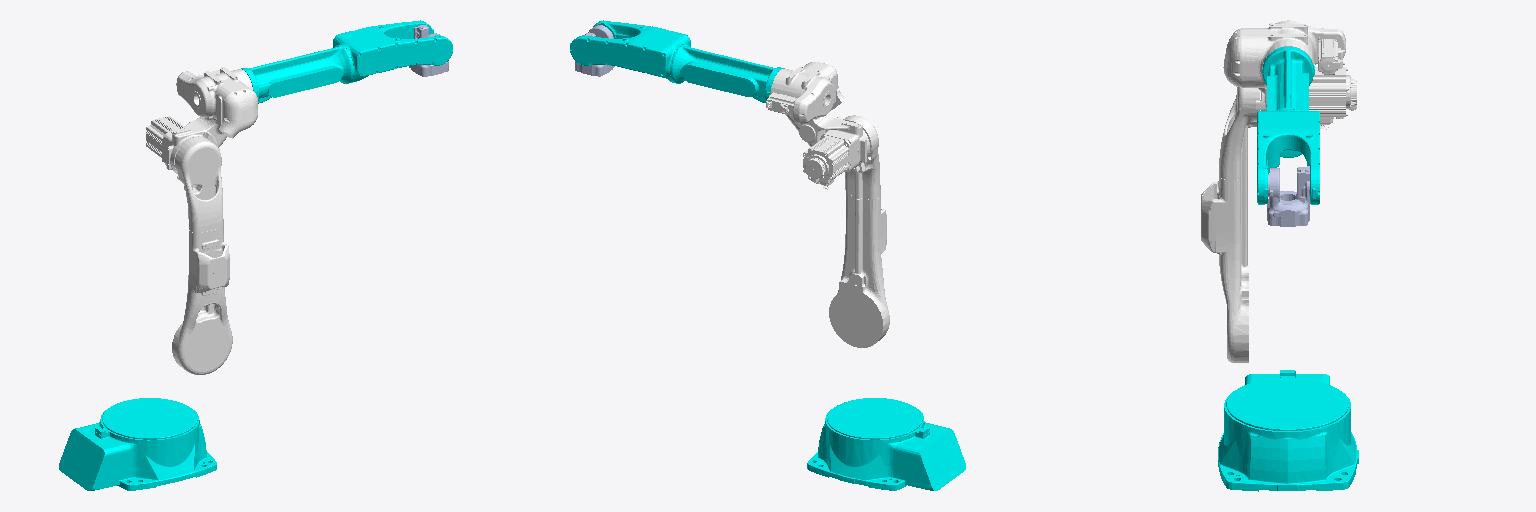
robot.urdf — mr12urdf20240605:
<?xml version="1.0" encoding="utf-8"?>
<!-- This URDF was automatically created by SolidWorks to URDF Exporter! Originally created by Stephen Brawner (brawner@gmail.com) 
     Commit Version: 1.6.0-4-g7f85cfe  Build Version: 1.6.7995.38578
     For more information, please see http://wiki.ros.org/sw_urdf_exporter -->
<robot
  name="mr12urdf20240605">
  <link
    name="base_link">
    <!-- <inertial>
      <origin
        xyz="-0.038979 3.1821E-05 0.11446"
        rpy="0 0 0" />
      <mass
        value="27.847" />
      <inertia
        ixx="0.33372"
        ixy="-0.00016275"
        ixz="-0.015052"
        iyy="0.57226"
        iyz="6.6414E-05"
        izz="0.74717" />
    </inertial> -->
    <visual>
      <origin
        xyz="0 0 0"
        rpy="0 0 0" />
      <geometry>
        <mesh
          filename="package://mr12urdf20240605/meshes/base_link.STL" />
      </geometry>
      <material
        name="">
        <color
          rgba="0 1 1 1" />
      </material>
    </visual>
    <collision>
      <origin
        xyz="0 0 0"
        rpy="0 0 0" />
      <geometry>
        <mesh
          filename="package://mr12urdf20240605/meshes/base_link.STL" />
      </geometry>
    </collision>
  </link>
  <link
    name="Link1">
    <inertial>
      <origin
        xyz="0.0015836 0.02481 -0.16429"
        rpy="0 0 0" />
      <mass
        value="28.856" />
      <inertia
        ixx="0.80293"
        ixy="0.2052"
        ixz="-0.085925"
        iyy="0.84748"
        iyz="-0.048338"
        izz="0.87668" />
    </inertial>
    <visual>
      <origin
        xyz="0 0 0"
        rpy="0 0 0" />
      <geometry>
        <mesh
          filename="package://mr12urdf20240605/meshes/Link1.STL" />
      </geometry>
      <material
        name="">
        <color
          rgba="1 1 1 1" />
      </material>
    </visual>
    <collision>
      <origin
        xyz="0 0 0"
        rpy="0 0 0" />
      <geometry>
        <mesh
          filename="package://mr12urdf20240605/meshes/Link1.STL" />
      </geometry>
    </collision>
  </link>
  <joint
    name="joint1"
    type="revolute">
    <origin
      xyz="0 0 0.55"
      rpy="0 0 0" />
    <parent
      link="base_link" />
    <child
      link="Link1" />
    <axis
      xyz="0 0 1" />
    <limit
      lower="-2.878"
      upper="2.878"
      effort="150"
      velocity="3.541" />
  </joint>
  <link
    name="Link2">
    <inertial>
      <origin
        xyz="0.31865 -0.00023557 0.18614"
        rpy="0 0 0" />
      <mass
        value="7.8068" />
      <inertia
        ixx="0.028124"
        ixy="0.00028152"
        ixz="-0.0093992"
        iyy="0.18587"
        iyz="1.1681E-05"
        izz="0.20014" />
    </inertial>
    <visual>
      <origin
        xyz="0 0 0"
        rpy="0 0 0" />
      <geometry>
        <mesh
          filename="package://mr12urdf20240605/meshes/Link2.STL" />
      </geometry>
      <material
        name="">
        <color
          rgba="1 1 1 1" />
      </material>
    </visual>
    <collision>
      <origin
        xyz="0 0 0"
        rpy="0 0 0" />
      <geometry>
        <mesh
          filename="package://mr12urdf20240605/meshes/Link2.STL" />
      </geometry>
    </collision>
  </link>
  <joint
    name="joint2"
    type="revolute">
    <origin
      xyz="0.14974 0.035343 0"
      rpy="1.5708 -1.5708 0" />
    <parent
      link="Link1" />
    <child
      link="Link2" />
    <axis
      xyz="0 0 1" />
    <limit
      lower="-2.529"
      upper="1.396"
      effort="150"
      velocity="3.541" />
  </joint>
  <link
    name="Link3">
    <inertial>
      <origin
        xyz="0.10855 -0.097073 0.0015558"
        rpy="0 0 0" />
      <mass
        value="13.102" />
      <inertia
        ixx="0.089477"
        ixy="0.0037317"
        ixz="0.0030591"
        iyy="0.075553"
        iyz="0.0049783"
        izz="0.062713" />
    </inertial>
    <visual>
      <origin
        xyz="0 0 0"
        rpy="0 0 0" />
      <geometry>
        <mesh
          filename="package://mr12urdf20240605/meshes/Link3.STL" />
      </geometry>
      <material
        name="">
        <color
          rgba="1 1 1 1" />
      </material>
    </visual>
    <collision>
      <origin
        xyz="0 0 0"
        rpy="0 0 0" />
      <geometry>
        <mesh
          filename="package://mr12urdf20240605/meshes/Link3.STL" />
      </geometry>
    </collision>
  </link>
  <joint
    name="joint3"
    type="revolute">
    <origin
      xyz="0.76075 0 0.033754"
      rpy="0 0 0" />
    <parent
      link="Link2" />
    <child
      link="Link3" />
    <axis
      xyz="0 0 1" />
    <limit
      lower="-1.308"
      upper="2.529"
      effort="150"
      velocity="3.733" />
  </joint>
  <link
    name="Link4">
    <inertial>
      <origin
        xyz="0.014489 -0.00063613 -0.37646"
        rpy="0 0 0" />
      <mass
        value="8.68" />
      <inertia
        ixx="0.46623"
        ixy="0.00050091"
        ixz="-0.015294"
        iyy="0.45108"
        iyz="0.00064946"
        izz="0.036563" />
    </inertial>
    <visual>
      <origin
        xyz="0 0 0"
        rpy="0 0 0" />
      <geometry>
        <mesh
          filename="package://mr12urdf20240605/meshes/Link4.STL" />
      </geometry>
      <material
        name="">
        <color
          rgba="0 1 1 1" />
      </material>
    </visual>
    <collision>
      <origin
        xyz="0 0 0"
        rpy="0 0 0" />
      <geometry>
        <mesh
          filename="package://mr12urdf20240605/meshes/Link4.STL" />
      </geometry>
    </collision>
  </link>
  <joint
    name="joint4"
    type="revolute">
    <origin
      xyz="0.19783 -1.0829 0"
      rpy="1.5708 0 0" />
    <parent
      link="Link3" />
    <child
      link="Link4" />
    <axis
      xyz="0 0 1" />
    <limit
      lower="-1.6"
      upper="1.6"
      effort="88.5"
      velocity="6.838" />
  </joint>
  <link
    name="Link5">
    <inertial>
      <origin
        xyz="-6.1697E-06 -0.048434 -0.0024999"
        rpy="0 0 0" />
      <mass
        value="1.2351" />
      <inertia
        ixx="0.0041541"
        ixy="-7.1529E-06"
        ixz="-1.1135E-05"
        iyy="0.0031617"
        iyz="0.00015352"
        izz="0.0035434" />
    </inertial>
    <visual>
      <origin
        xyz="0 0 0"
        rpy="0 0 0" />
      <geometry>
        <mesh
          filename="package://mr12urdf20240605/meshes/Link5.STL" />
      </geometry>
      <material
        name="">
        <color
          rgba="0.79216 0.81961 0.93333 1" />
      </material>
    </visual>
    <collision>
      <origin
        xyz="0 0 0"
        rpy="0 0 0" />
      <geometry>
        <mesh
          filename="package://mr12urdf20240605/meshes/Link5.STL" />
      </geometry>
    </collision>
  </link>
  <joint
    name="joint5"
    type="revolute">
    <origin
      xyz="0 0 0"
      rpy="1.5708 1.5708 0" />
    <parent
      link="Link4" />
    <child
      link="Link5" />
    <axis
      xyz="0 0 1" />
    <limit
      lower="-1.6"
      upper="0.75"
      effort="45.52"
      velocity="4.815" />
  </joint>
  <link
    name="Link6">
    <inertial>
      <origin
        xyz="-0.048649 0.00090428 0.16353"
        rpy="0 0 0" />
      <mass
        value="1.8877" />
      <inertia
        ixx="0.0086566"
        ixy="0.00012203"
        ixz="0.00084157"
        iyy="0.0053122"
        iyz="-0.00012437"
        izz="0.0064842" />
    </inertial>
    <visual>
      <origin
        xyz="0 0 0"
        rpy="0 0 0" />
      <geometry>
        <mesh
          filename="package://mr12urdf20240605/meshes/Link6.STL" />
      </geometry>
      <material
        name="">
        <color
          rgba="0.75294 0.75294 0.75294 1" />
      </material>
    </visual>
    <collision>
      <origin
        xyz="0 0 0"
        rpy="0 0 0" />
      <geometry>
        <mesh
          filename="package://mr12urdf20240605/meshes/Link6.STL" />
      </geometry>
    </collision>
  </link>
  <joint
    name="joint6"
    type="revolute">
    <origin
      xyz="0 -0.112 0"
      rpy="-1.5708 0 -3.1416" />
    <parent
      link="Link5" />
    <child
      link="Link6" />
    <axis
      xyz="0 0 1" />
    <limit
      lower="-3.838"
      upper="3.838"
      effort="32.64"
      velocity="23.655" />
  </joint>

  <link name="link_tool" />
  <joint name="joint_tool" type="fixed">
    <parent link="Link6" />
    <child link="link_tool" />
    <origin xyz="-0.062274 0.004467 0.736804" rpy="0.004903 0.399016 3.141556" />
  </joint>

  <link name="link_end" />
  <joint name="joint_end" type="fixed">
    <parent link="link_tool" />
    <child link="link_end" />
    <origin xyz="0.0 0.0 0.0" rpy="0.0 0.0 0.02" />
  </joint>

</robot>

--- Render facts (derived) ---
Views: 3 orthographic renders of the robot side by side, from view 1: azimuth 30°, elevation 25°; view 2: azimuth 150°, elevation 25°; view 3: azimuth 270°, elevation 25°.
Model mr12urdf20240605 with 9 links and 8 joints (6 revolute, 2 fixed), rooted at base_link, posed every joint at zero.
Links seen in each view (by area): view 1: base_link, Link2, Link4, Link3, Link5; view 2: base_link, Link2, Link4, Link3, Link5; view 3: base_link, Link2, Link3, Link4, Link5.
Boxes of the visible links, x1,y1,x2,y2 form: base_link: (59,398,216,490); Link2: (172,137,232,374); Link4: (241,20,452,103); Link3: (146,67,257,173); Link5: (409,25,448,76); base_link: (807,398,965,490); Link2: (829,115,889,347); Link4: (570,20,784,102); Link3: (766,62,869,189); Link5: (575,25,614,76); base_link: (1218,370,1358,491); Link2: (1201,87,1259,362); Link3: (1223,20,1356,129); Link4: (1257,47,1319,204); Link5: (1267,166,1309,226).
Size in the robot's own frame: 1.63 by 0.47 by 1.57 metres.
5 mesh visuals loaded from 7 distinct referenced files (5 binary STL); not drawn: 2 (reference not matched to a file when rendering).
